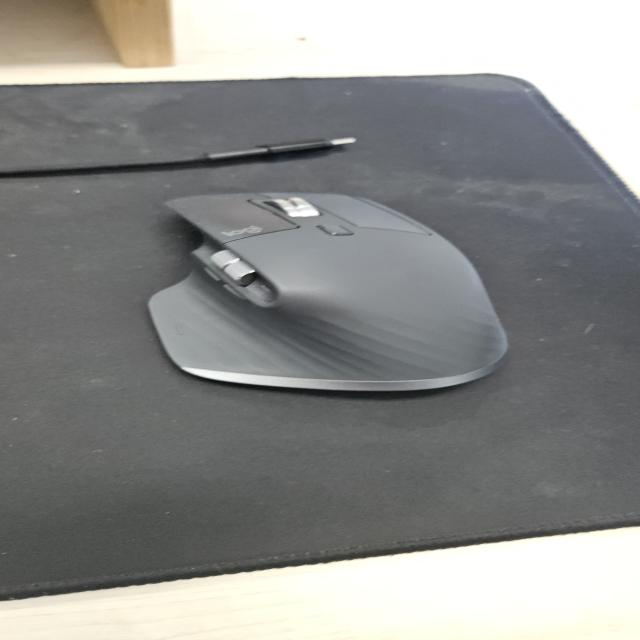Mouse: (144, 189, 513, 393)
